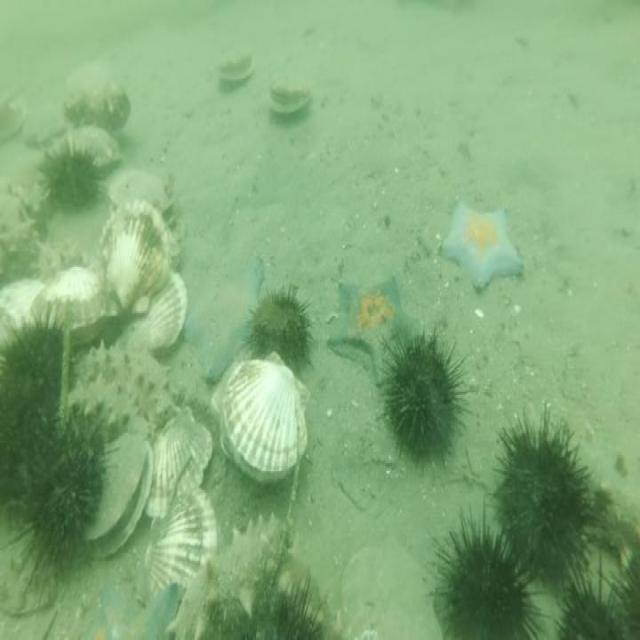echinus: (10, 398, 109, 601), (491, 406, 594, 596), (429, 501, 545, 640), (379, 322, 471, 474), (1, 305, 66, 517), (248, 281, 313, 384), (47, 147, 104, 216)
holothurian: (164, 507, 289, 640), (73, 340, 174, 422), (68, 376, 142, 432), (0, 186, 36, 281), (32, 232, 89, 286)
scallop: (219, 348, 313, 494), (82, 428, 154, 569), (93, 199, 175, 316), (138, 486, 220, 596), (147, 412, 215, 522), (32, 262, 111, 335), (127, 268, 189, 356), (103, 161, 172, 229), (42, 123, 124, 177), (264, 66, 316, 124), (18, 95, 66, 147), (214, 41, 258, 90)
starfish: (180, 245, 266, 389), (324, 274, 414, 391), (437, 186, 527, 302)
